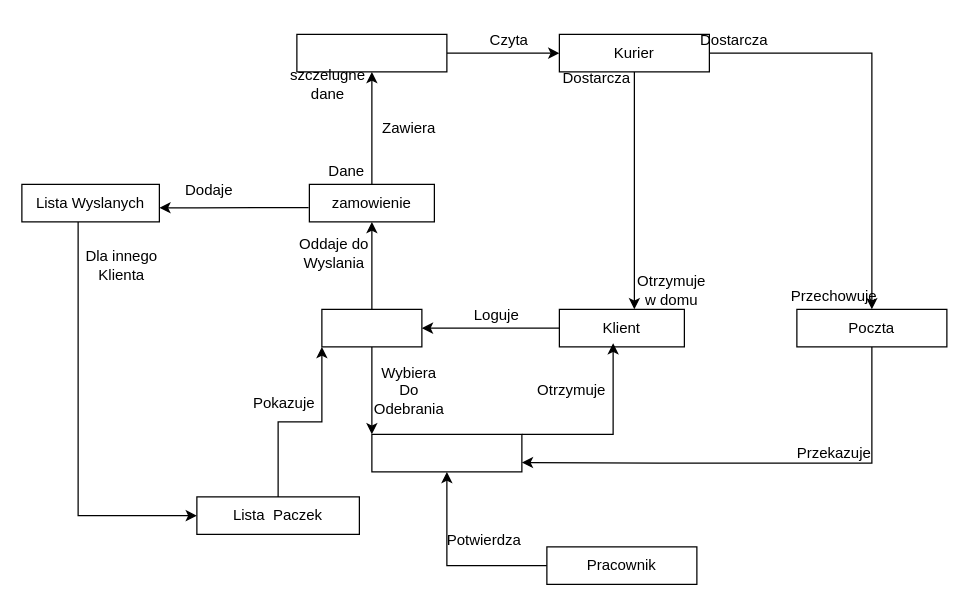
The diagram is 969 pixels wide and 606 high, and some of its shapes have lost their labels. The shapes that lost their labels are listed below. From the top down, each one's centre as x and y in pixels, then its label:
[371,52]: Adress
[371,327]: Konto
[446,452]: Odebranie Paczki
